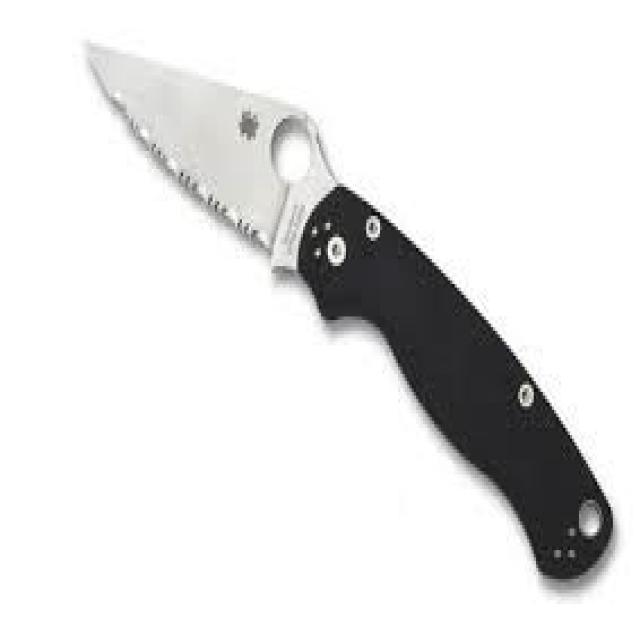knife: (82, 34, 616, 590)
